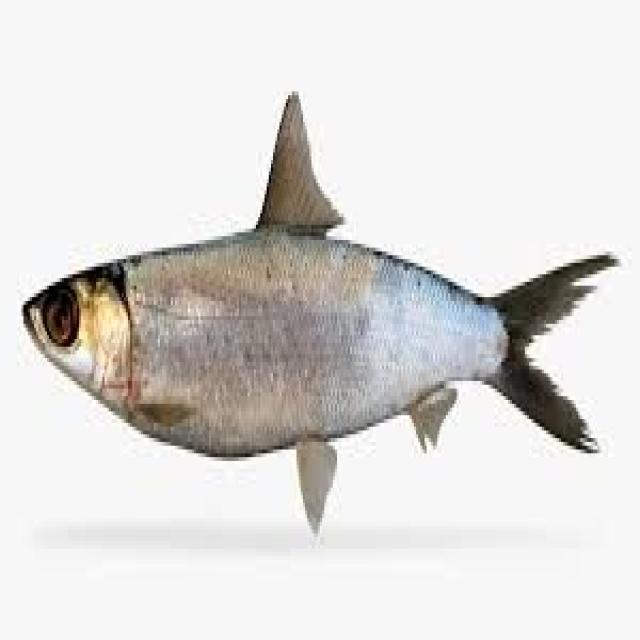Bangus: (22, 31, 624, 586)
